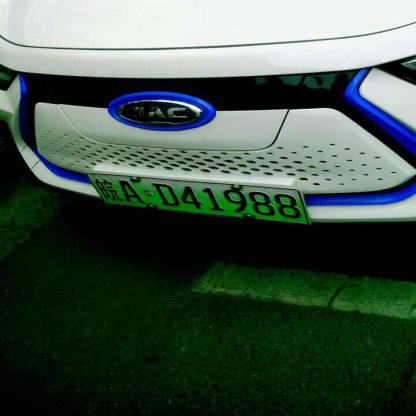lp: (85, 172, 308, 222)
